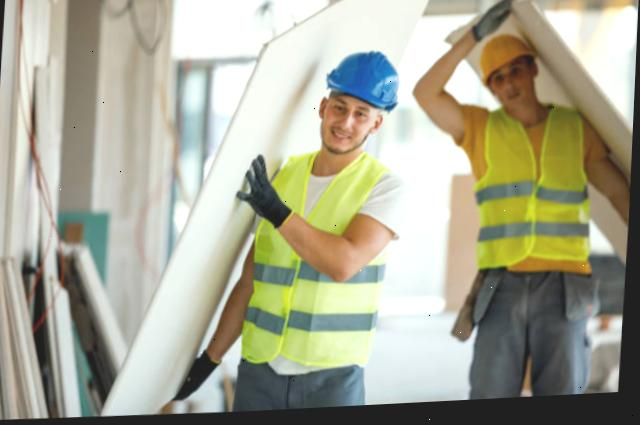helmet: (321, 53, 405, 107), (479, 36, 534, 88)
vest: (244, 155, 391, 368), (479, 108, 590, 276)
